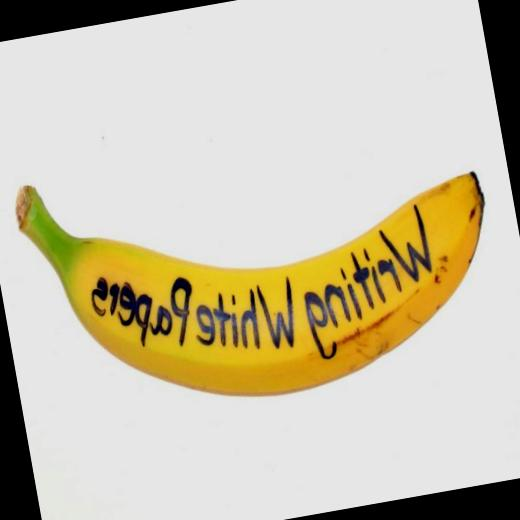Banana: (9, 105, 514, 440)
